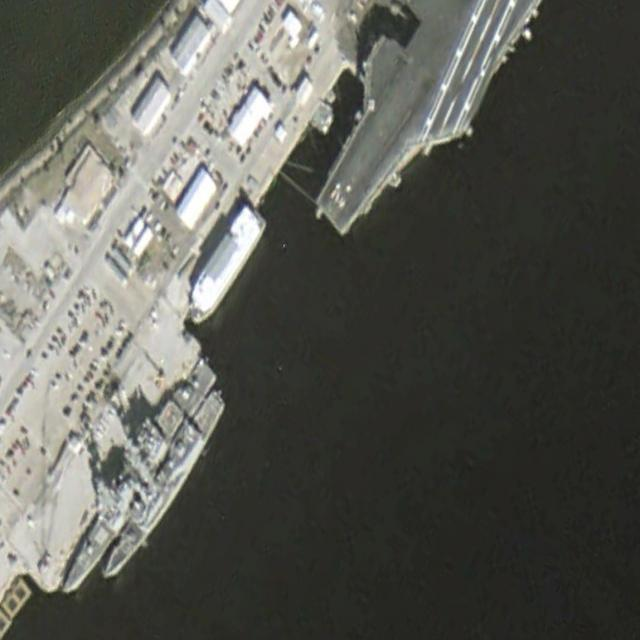Aircraft Carrier: (294, 1, 536, 279)
Frigate: (96, 384, 232, 590)
Other Ship: (180, 200, 269, 332)
Other Warship: (50, 349, 220, 604)
